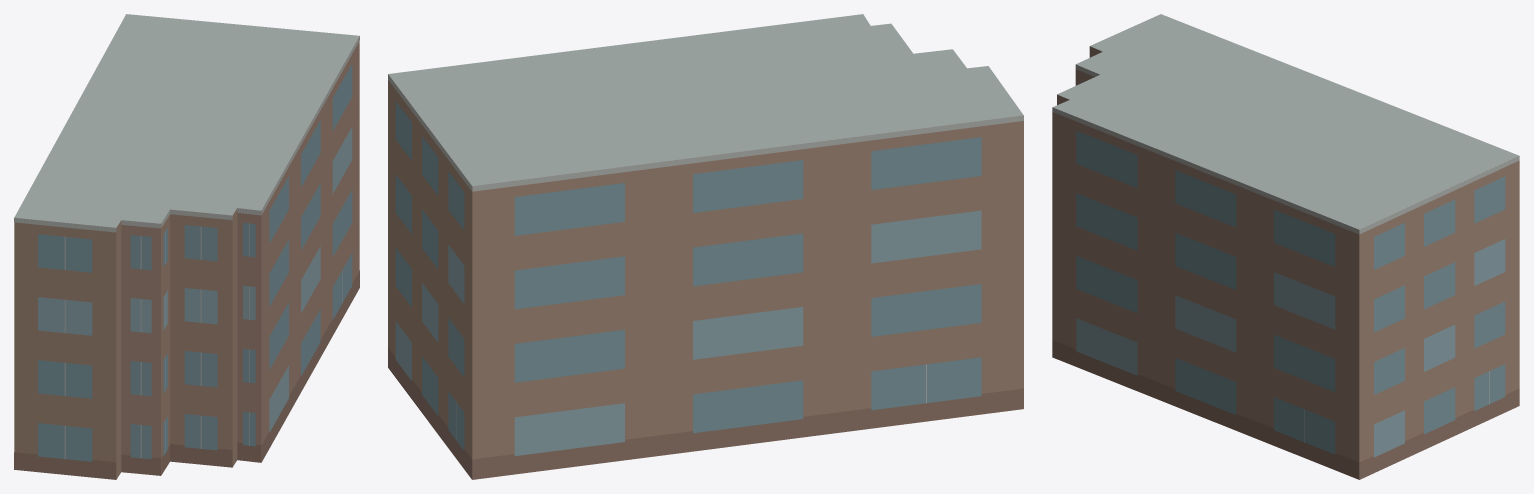
File: survey-upis-32740199.glb
3 renders of one model, left to right at view 1: azimuth 30°, elevation 25°; view 2: azimuth 150°, elevation 25°; view 3: azimuth 270°, elevation 25°, orthographic. The views are drawn at different scales.
Visible parts, largest first — view 1: survey-upis-32740199.tmp; view 2: survey-upis-32740199.tmp; view 3: survey-upis-32740199.tmp.
Part boxes in pixels (x1,y1,x2,y2): survey-upis-32740199.tmp: [14, 14, 359, 479]; survey-upis-32740199.tmp: [388, 14, 1023, 479]; survey-upis-32740199.tmp: [1052, 14, 1519, 479].
Size of the model in its own units: 24.25 by 13.1 by 22.19.
